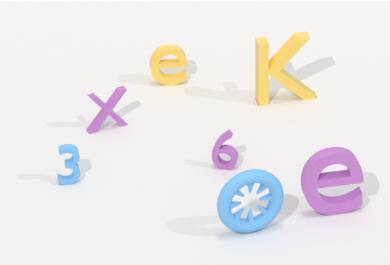0-TronLo: (214, 167, 287, 236)
3: (54, 142, 85, 189)
6: (207, 123, 242, 174)
K: (253, 27, 320, 110)
X: (81, 82, 131, 139)
e: (297, 142, 367, 219), (145, 40, 191, 90)
